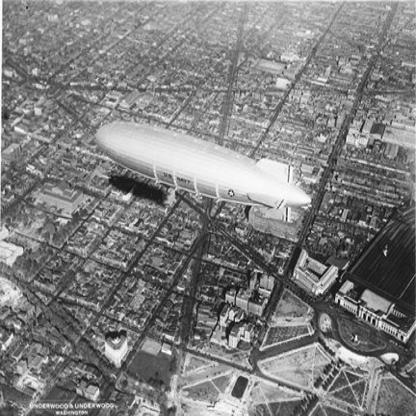Airship: (95, 119, 314, 222)
